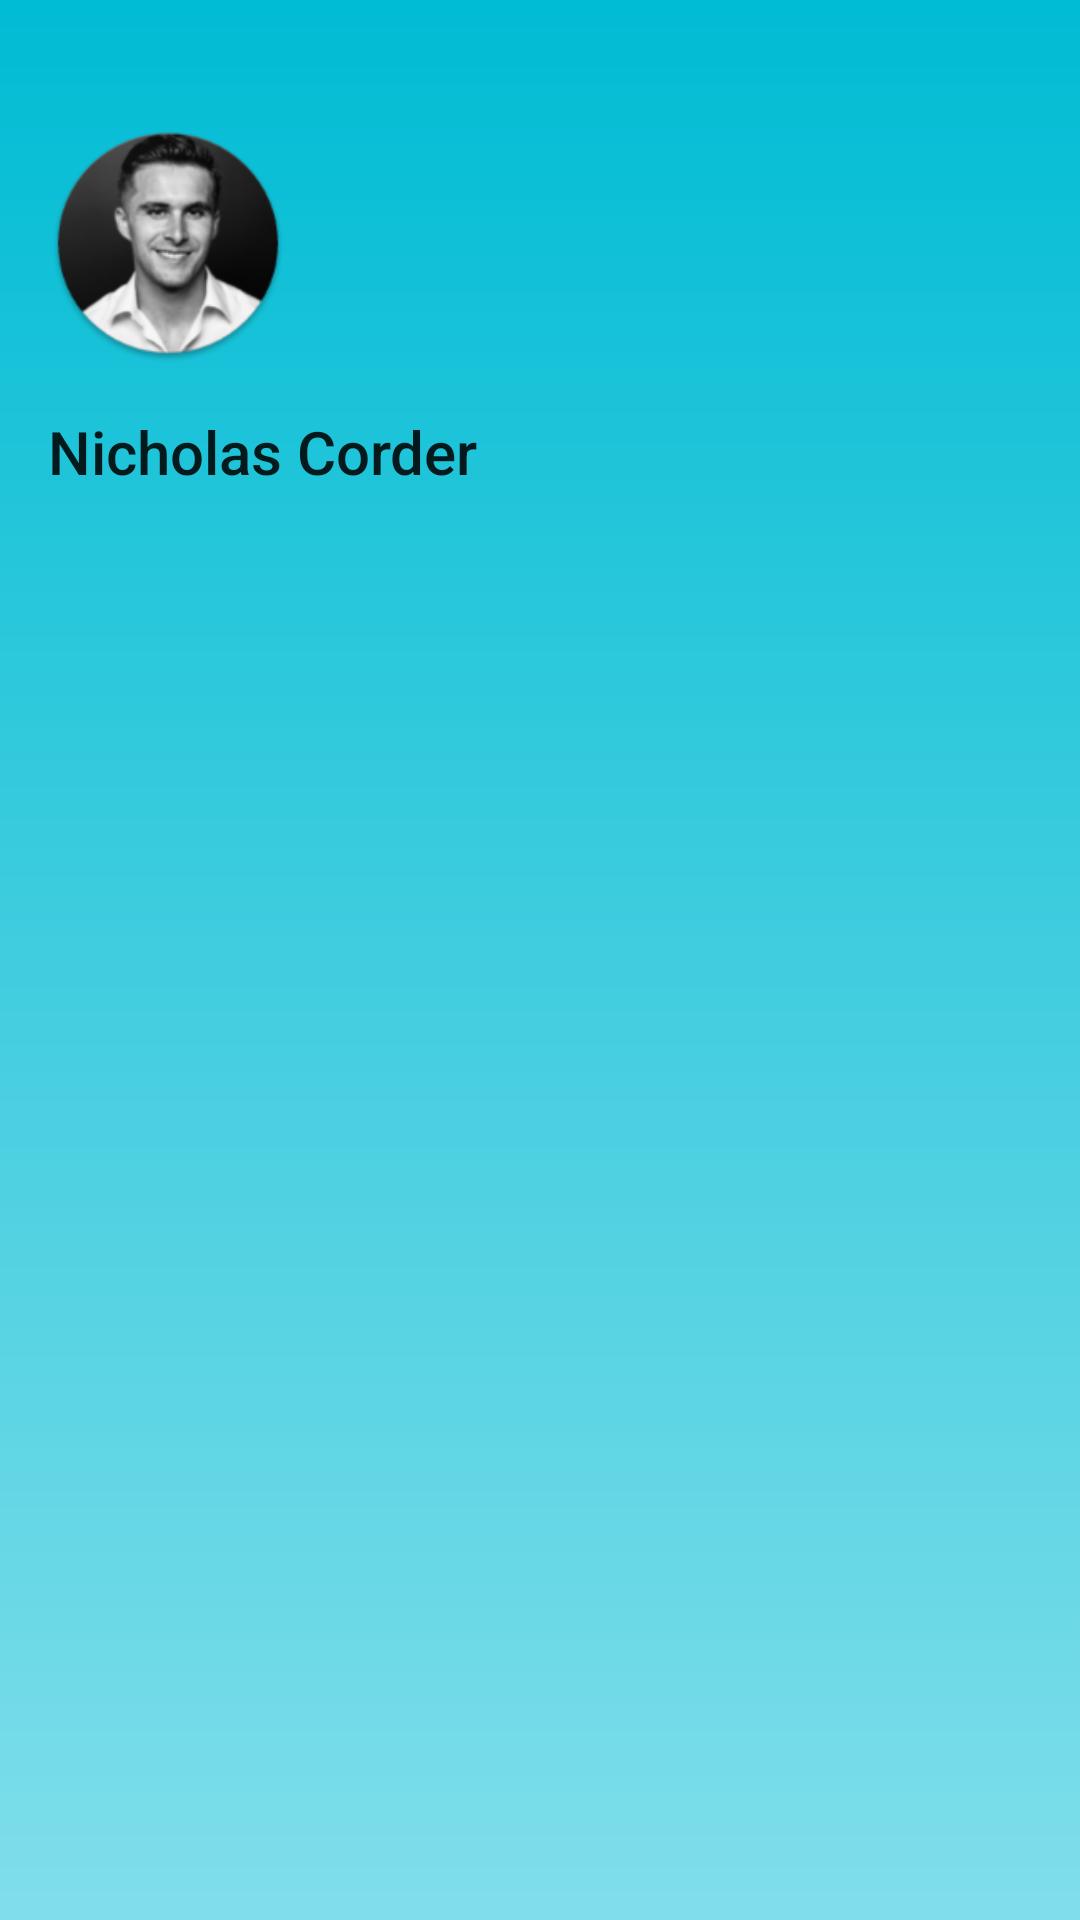

Icon bounding boxes for this 1080px×1920px phone screenshot, format (x1, y1, x2, y2):
photo: (57, 132, 279, 357)
